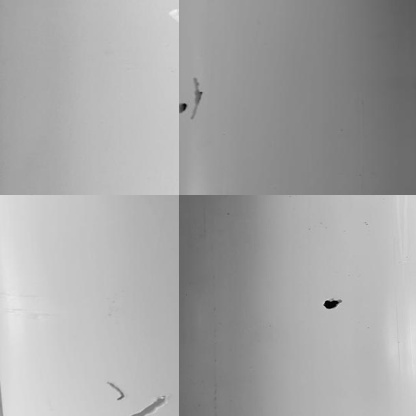kongdong: (321, 295, 341, 311)
sunshang: (110, 379, 164, 416), (177, 79, 204, 125)
